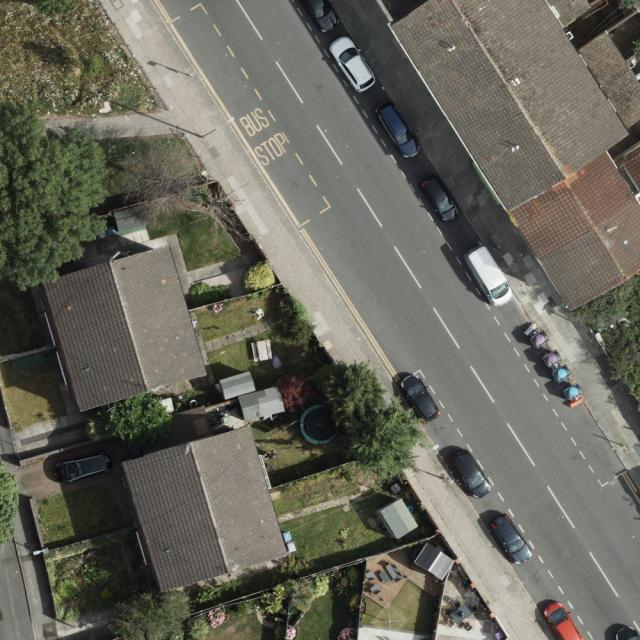roof: (387, 0, 640, 313), (44, 242, 210, 415), (121, 427, 289, 596)
